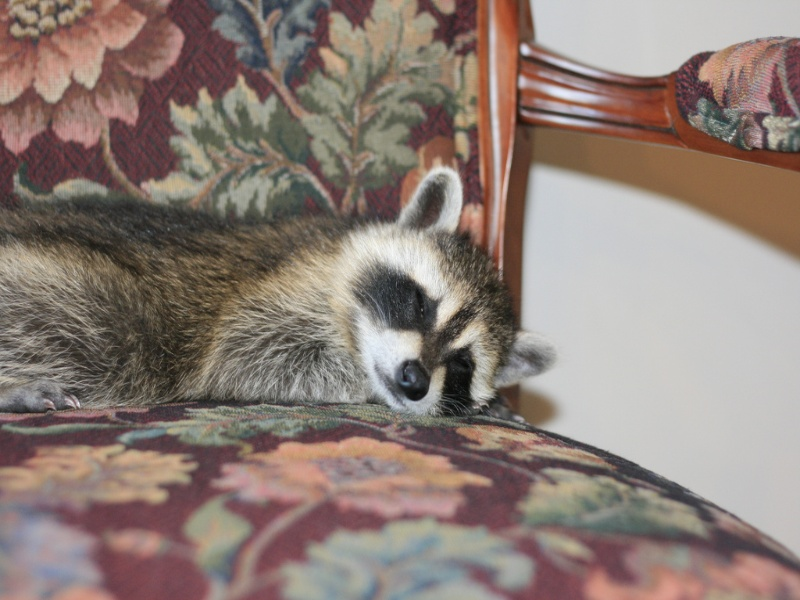raccoon: (1, 166, 563, 431)
